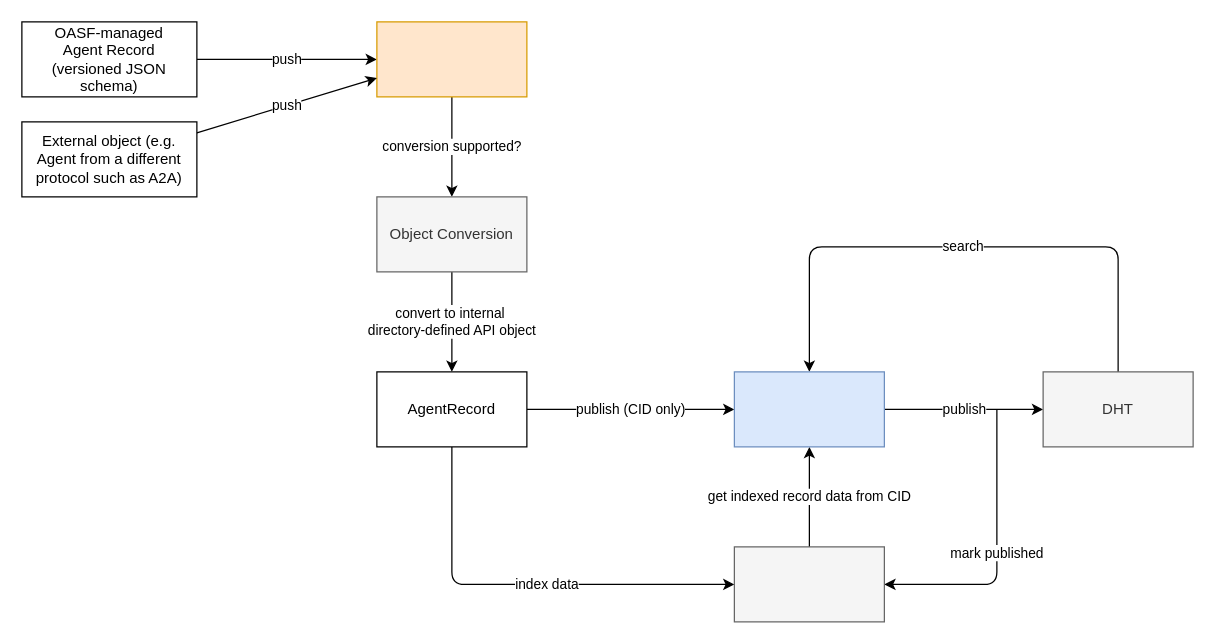
Image size: 1215x644. Some labels were removed from this diagram. Each missing label, with the box of its shape:
Database: (733, 546, 884, 622)
Routing Service: (733, 371, 884, 447)
Storage Service: (376, 21, 527, 97)
